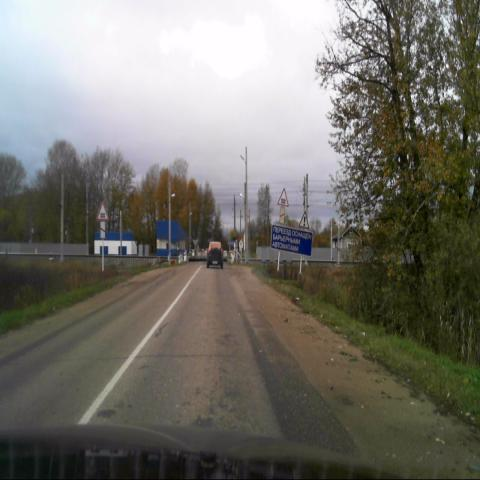1_1: (96, 201, 109, 222), (277, 187, 289, 208)
1_33: (298, 210, 310, 231)
